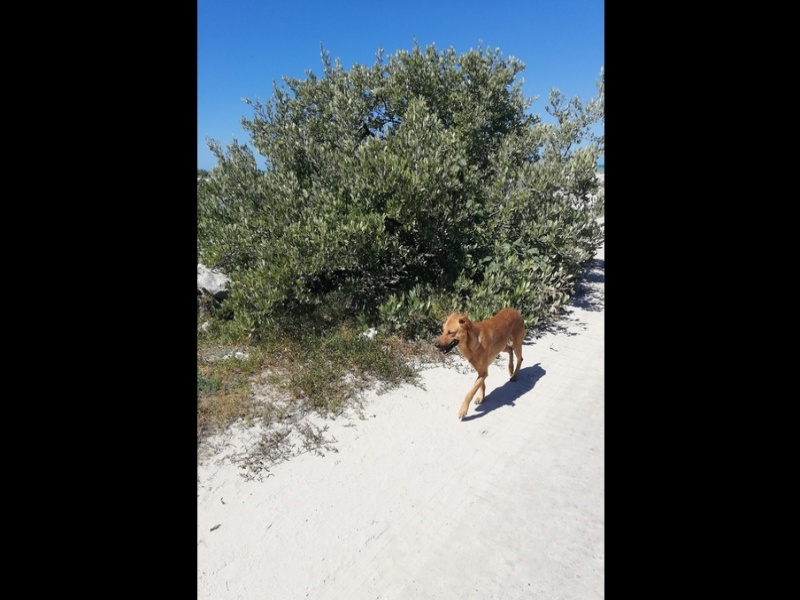dog: (435, 300, 531, 430)
